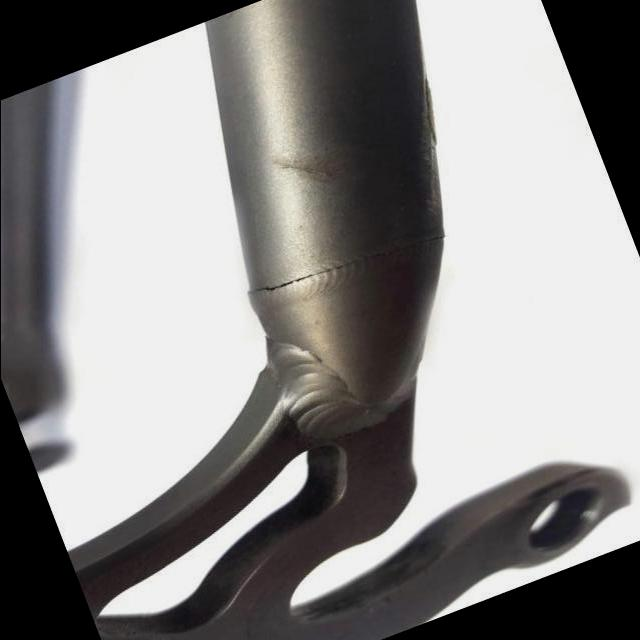defect: (242, 234, 447, 296)
